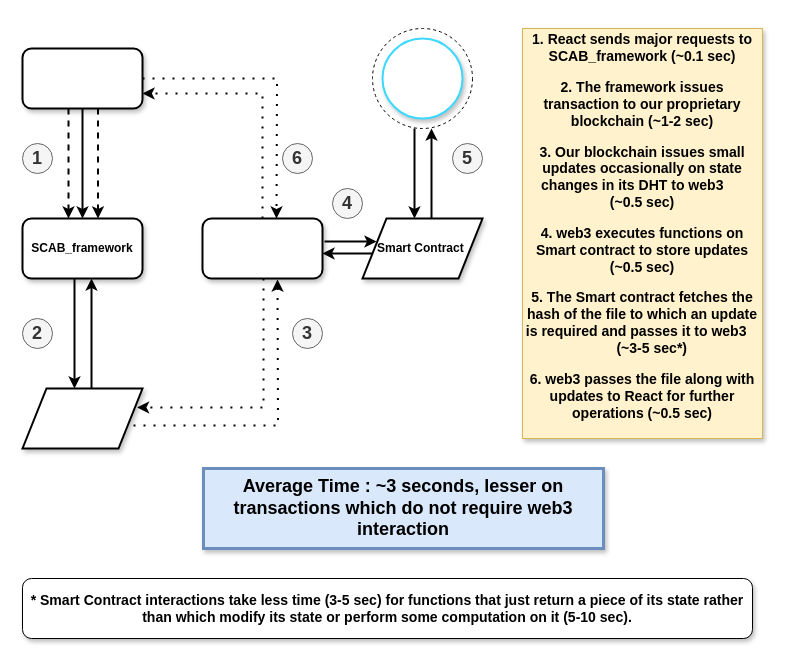
This 786x663 diagram has some shape labels left out. Here are the shapes that lost their labels. From the top down, the centre of each, then its label:
At [83,79]: "React App".
At [423,79]: "IPFS".
At [263,249]: "web3".
At [83,419]: "SCAB Blockchain".
